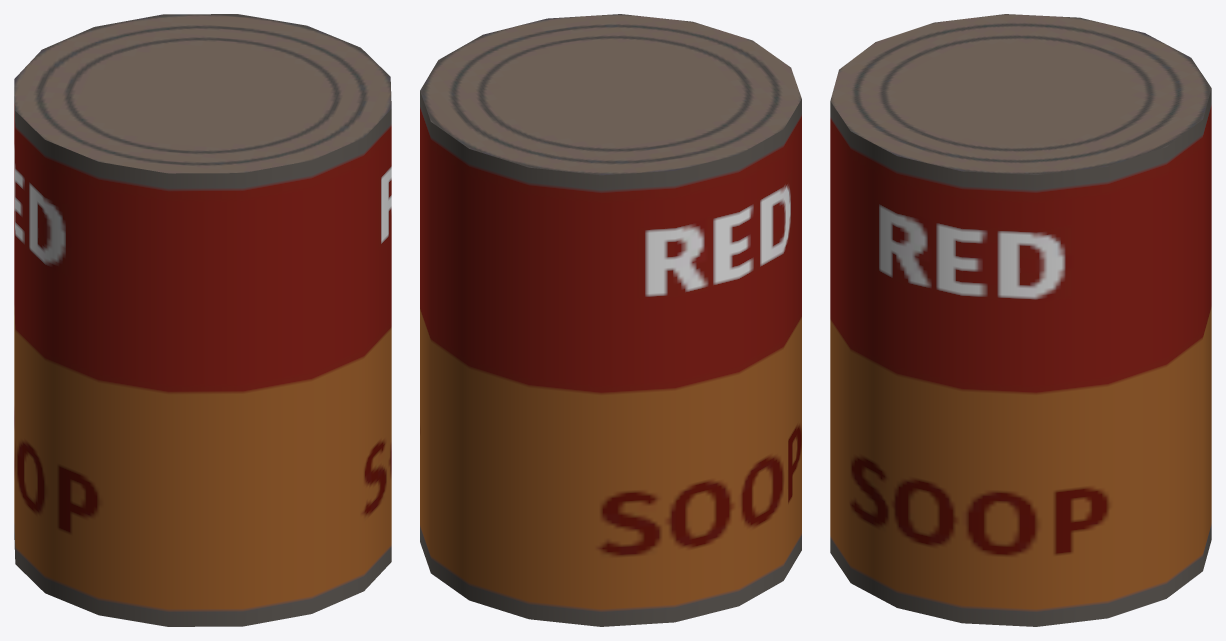
The model's file is ThroneRoom_Soup (24).fbx.
3 renders of one model, left to right at view 1: azimuth 30°, elevation 25°; view 2: azimuth 150°, elevation 25°; view 3: azimuth 270°, elevation 25°, orthographic.
Visible parts, largest first — view 1: ThroneRoom_Soup (24); view 2: ThroneRoom_Soup (24); view 3: ThroneRoom_Soup (24).
Boxes of the visible parts, x1,y1,x2,y2 form: ThroneRoom_Soup (24): (14,14,391,626); ThroneRoom_Soup (24): (420,14,801,626); ThroneRoom_Soup (24): (830,14,1211,626).
Bounding box in the file's own units: 0.2458 × 0.3214 × 0.2458.
Materials: 1 (1 with a texture image).
